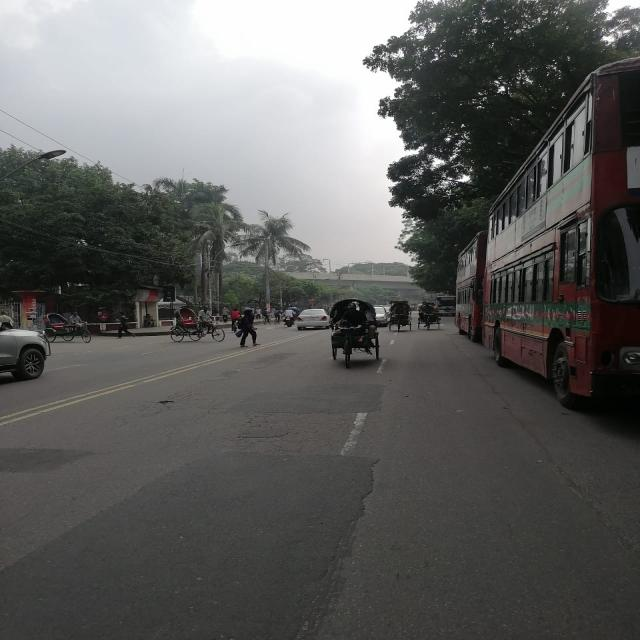person: (240, 308, 259, 348)
